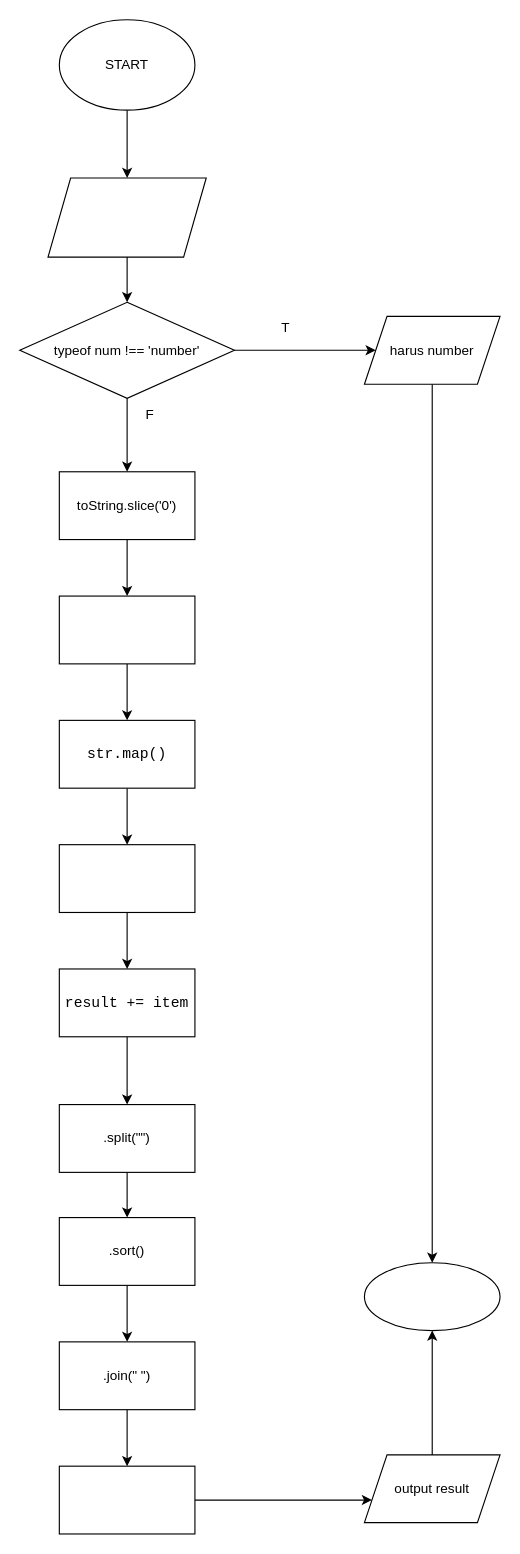
This 520x1554 diagram has some shape labels left out. Each missing label, with the centre of its shape:
(item): (x=126, y=878)
END: (x=431, y=1296)
Hasil map: (x=126, y=1499)
Input berupa number: (x=126, y=217)
result = " ": (x=126, y=629)
